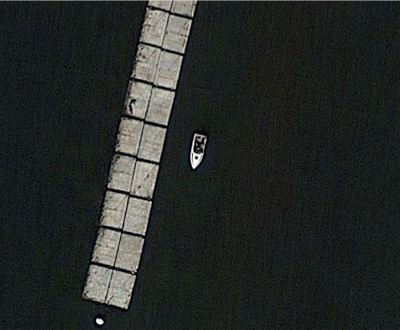boat: (189, 132, 210, 171)
